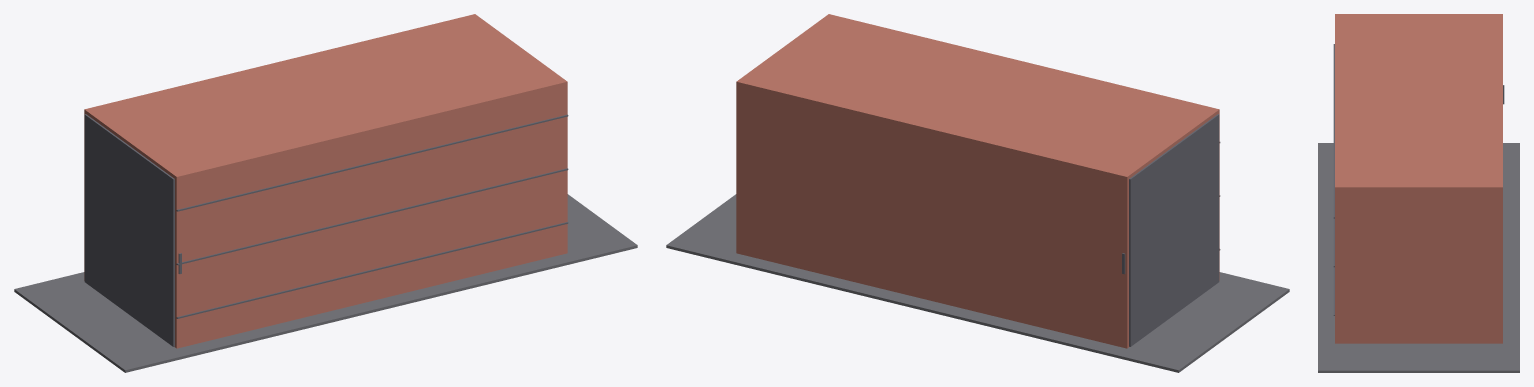
Rendered from shipping_container.glb.
3 renders of one model, left to right at view 1: azimuth 30°, elevation 25°; view 2: azimuth 150°, elevation 25°; view 3: azimuth 270°, elevation 25°, orthographic. The views are drawn at different scales.
Visible parts, largest first — view 1: body, door_frame, ground, ridge_1, ridge_3, ridge_2; view 2: body, door_frame, ground; view 3: body, ground, ridge_3.
Part boxes in pixels (left/top/right/bottom): body: left=84, top=14, right=567, bottom=348; door_frame: left=84, top=114, right=174, bottom=346; ground: left=14, top=194, right=637, bottom=372; ridge_1: left=176, top=222, right=568, bottom=318; ridge_3: left=176, top=114, right=568, bottom=211; ridge_2: left=176, top=168, right=568, bottom=265; body: left=736, top=14, right=1219, bottom=348; door_frame: left=1129, top=114, right=1219, bottom=346; ground: left=666, top=194, right=1289, bottom=372; body: left=1335, top=14, right=1502, bottom=343; ground: left=1318, top=143, right=1519, bottom=372; ridge_3: left=1333, top=44, right=1334, bottom=218.
Bounding box in the file's own units: 8 × 2.6 × 3.
